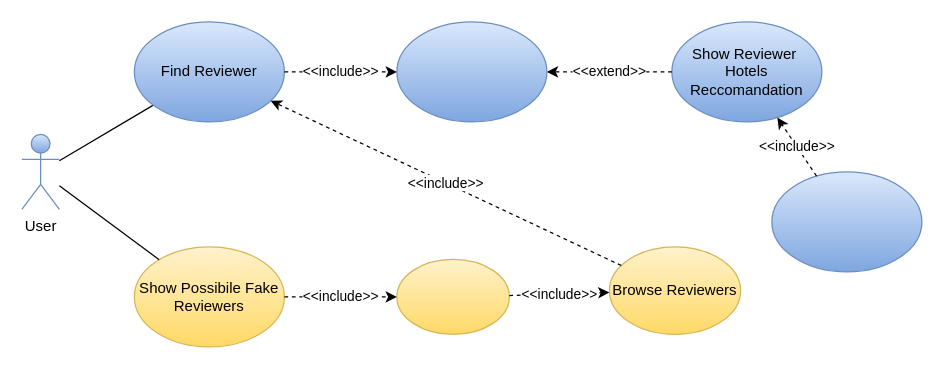
This 944x369 diagram has some shape labels left out. The centre of each missing label's shape, as x and y in pixels:
"Calculate Possibile Fake Reviewers" goes at pixel 452 296.
"Calculate Reviewer Hotels Reccomandation" goes at pixel 846 221.
"View Reviewer" goes at pixel 471 71.
